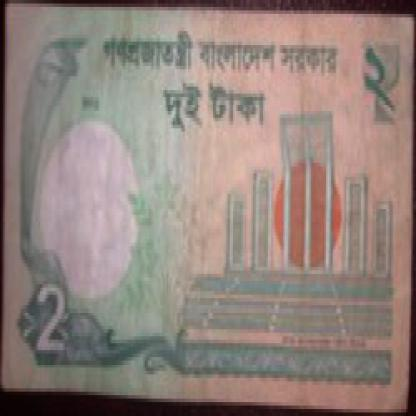two taka: (17, 274, 80, 364), (353, 42, 404, 121)
